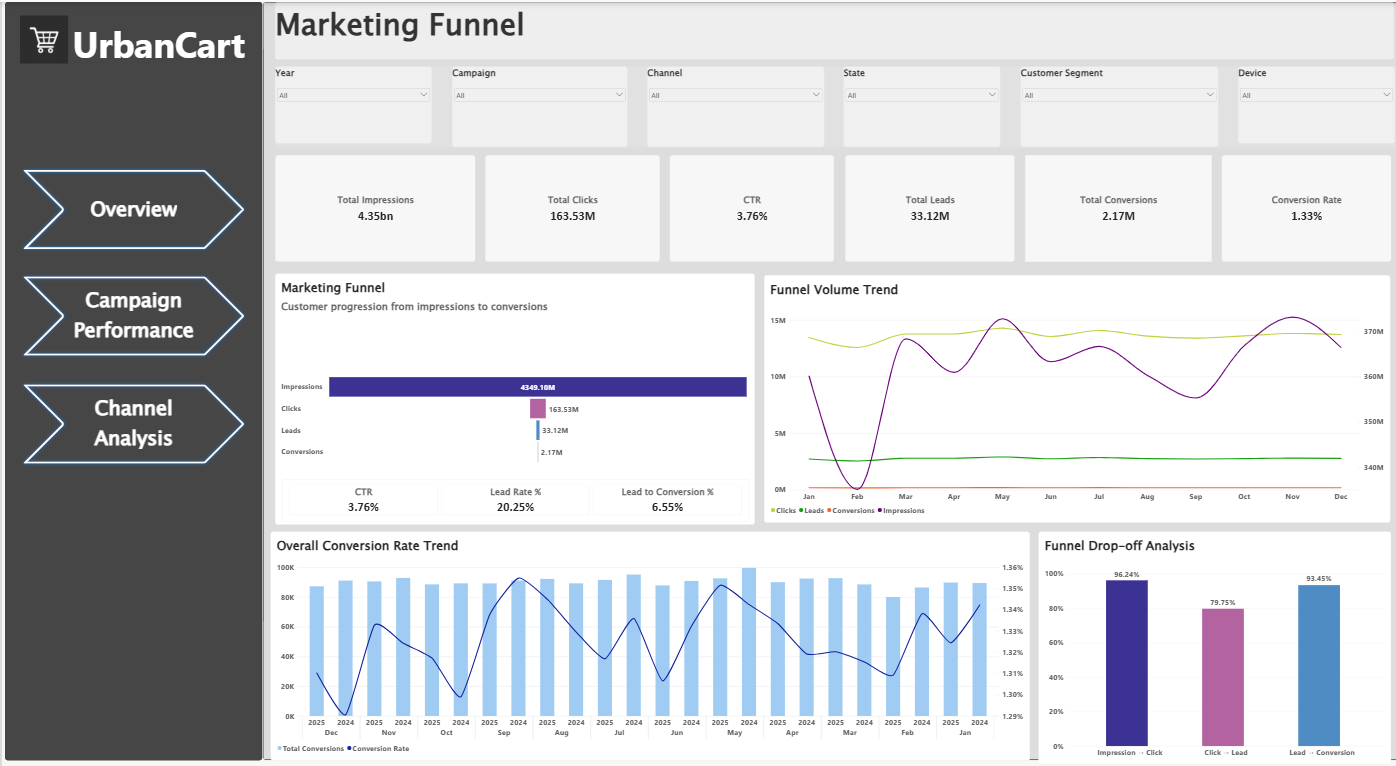

The dashboard page shown, as its layout file describes it:
{"tool":"powerbi","page":{"name":"Marketing Funnel","canvas":[3840,2160],"ordinal":3},"visuals":[{"type":"shape","box":[10,0,695,2050],"z":0},{"type":"textbox","box":[178.5,28.4,490.7,158.2],"z":0,"group":"g4"},{"type":"slicer","title":"Year","fields":{"Values":["Dim_Date.Year"]},"box":[738,174.4,424.1,207.9],"z":0,"group":"g1"},{"type":"shape","box":[705,0,3135,2050],"z":1000},{"type":"image","box":[48.7,28.4,129.8,146],"z":1000,"group":"g4"},{"type":"slicer","title":"State","fields":{"Values":["Dim_Geography.State"]},"box":[2276.7,174.4,424.1,218.1],"z":1000,"group":"g1"},{"type":"shape","title":"Marketing Funnel","box":[740,0,3025,155],"z":2000},{"type":"slicer","title":"Customer Segment","fields":{"Values":["Fact_Marketing.Standard_Customer_Segment"]},"box":[2754.3,174.4,534.7,218.1],"z":2000,"group":"g1"},{"type":"group","id":"g1","title":"Group 1","box":[738,174.4,3029.2,219],"z":3000},{"type":"slicer","title":"Device","fields":{"Values":["Fact_Marketing.Device"]},"box":[3340.9,174.4,424.1,207.9],"z":3000,"group":"g1"},{"type":"slicer","title":"Campaign","fields":{"Values":["Dim_Campaign.Campaign_Name"]},"box":[1215.6,174.4,474.8,218.1],"z":4000,"group":"g1"},{"type":"cardVisual","title":"Total Impressions","fields":{"Data":["Measure.Total Impressions"]},"box":[738,413.6,542.2,290],"z":4000,"group":"g2"},{"type":"actionButton","title":"Overview","box":[50,445,615,230],"z":4000},{"type":"slicer","title":"Channel","fields":{"Values":["Dim_Channel.Standard Channel"]},"box":[1743.8,174.4,479.4,218.1],"z":5000,"group":"g1"},{"type":"cardVisual","fields":{"Data":["Measures (2).Total Clicks"]},"box":[1306.5,413.6,473.3,290],"z":5000,"group":"g2"},{"type":"actionButton","title":"Overview","box":[50,735,615,230],"z":5000},{"type":"actionButton","title":"Overview","box":[50,1025,615,230],"z":6000},{"type":"group","id":"g2","title":"Group 2","box":[738,413.6,3017.2,290],"z":7000},{"type":"cardVisual","fields":{"Data":["Measures (2).Total Leads"]},"box":[2278.1,413.6,459.5,290],"z":7000,"group":"g2"},{"type":"group","id":"g3","title":"Group 3","box":[736.7,733.3,1293.3,680],"z":8000},{"type":"cardVisual","fields":{"Data":["Measures (2).Total Conversions"]},"box":[2764,413.6,505.4,290],"z":9000,"group":"g2"},{"type":"lineChart","title":"Funnel Volume Trend","fields":{"Category":["Dim_Date.Month"],"Y":["Measure.Total Clicks","Measure.Total Leads","Measure.Total Conversions"],"Y2":["Measure.Total Impressions"]},"box":[2060,736.7,1693.3,670],"z":9000},{"type":"lineClusteredColumnComboChart","title":"Overall Conversion Rate Trend","fields":{"Category":["Dim_Date.Month","Dim_Date.Year"],"Y":["Measure.Total Conversions"],"Y2":["Measure.Conversion Rate"]},"box":[726.7,1430,2053.3,620],"z":10000},{"type":"cardVisual","fields":{"Data":["Measures (2).CTR"]},"box":[1806.1,413.6,445.7,290],"z":11000,"group":"g2"},{"type":"columnChart","title":"Funnel Drop-off Analysis","fields":{"Category":["Funnel Drop-off Stages.Funnel Stage"],"Y":["Measure.Funnel Drop-off %"]},"box":[2803.3,1430,953.3,633.3],"z":11000},{"type":"group","id":"g4","title":"Group 3","box":[48.7,28.4,620.4,158.2],"z":12000},{"type":"cardVisual","fields":{"Data":["Measures (2).Conversion Rate"]},"box":[3295.7,413.6,459.5,290],"z":13000,"group":"g2"},{"type":"funnel","title":"Marketing Funnel","fields":{"Category":["Funnel Stages for Marketing Funnel Analysis.Funnel Stage"],"Y":["Measure.Funnel Value"]},"box":[736.7,733.3,1297.4,679.5],"z":14000,"group":"g3"},{"type":"cardVisual","fields":{"Data":["Measure.CTR","Measure.Lead Rate %","Measure.Lead to Conversion %"]},"box":[757.2,1289.5,1261,115.8],"z":17003,"group":"g3"}]}

Visuals, with their boxes in screenshot pixels (x1, y1, x2, y2), scaled from the page's 3840x2160 canvas onto the 1396x766 screenshot:
shape: l=4, t=0, r=256, b=727
textbox: l=65, t=10, r=243, b=66
"Year" slicer: l=268, t=62, r=422, b=136
shape: l=256, t=0, r=1395, b=727
image: l=18, t=10, r=65, b=62
"State" slicer: l=828, t=62, r=982, b=139
"Marketing Funnel" shape: l=269, t=0, r=1369, b=55
"Customer Segment" slicer: l=1001, t=62, r=1196, b=139
"Group 1" group: l=268, t=62, r=1370, b=140
"Device" slicer: l=1215, t=62, r=1369, b=136
"Campaign" slicer: l=442, t=62, r=615, b=139
"Total Impressions" cardVisual: l=268, t=147, r=465, b=250
"Overview" actionButton: l=18, t=158, r=242, b=239
"Channel" slicer: l=634, t=62, r=808, b=139
cardVisual - Measures (2).Total Clicks: l=475, t=147, r=647, b=250
"Overview" actionButton: l=18, t=261, r=242, b=342
"Overview" actionButton: l=18, t=363, r=242, b=445
"Group 2" group: l=268, t=147, r=1365, b=250
cardVisual - Measures (2).Total Leads: l=828, t=147, r=995, b=250
"Group 3" group: l=268, t=260, r=738, b=501
cardVisual - Measures (2).Total Conversions: l=1005, t=147, r=1189, b=250
"Funnel Volume Trend" lineChart: l=749, t=261, r=1364, b=499
"Overall Conversion Rate Trend" lineClusteredColumnComboChart: l=264, t=507, r=1011, b=727
cardVisual - Measures (2).CTR: l=657, t=147, r=819, b=250
"Funnel Drop-off Analysis" columnChart: l=1019, t=507, r=1366, b=732
"Group 3" group: l=18, t=10, r=243, b=66
cardVisual - Measures (2).Conversion Rate: l=1198, t=147, r=1365, b=250
"Marketing Funnel" funnel: l=268, t=260, r=739, b=501
cardVisual - Measure.CTR x Measure.Lead Rate %: l=275, t=457, r=734, b=498
